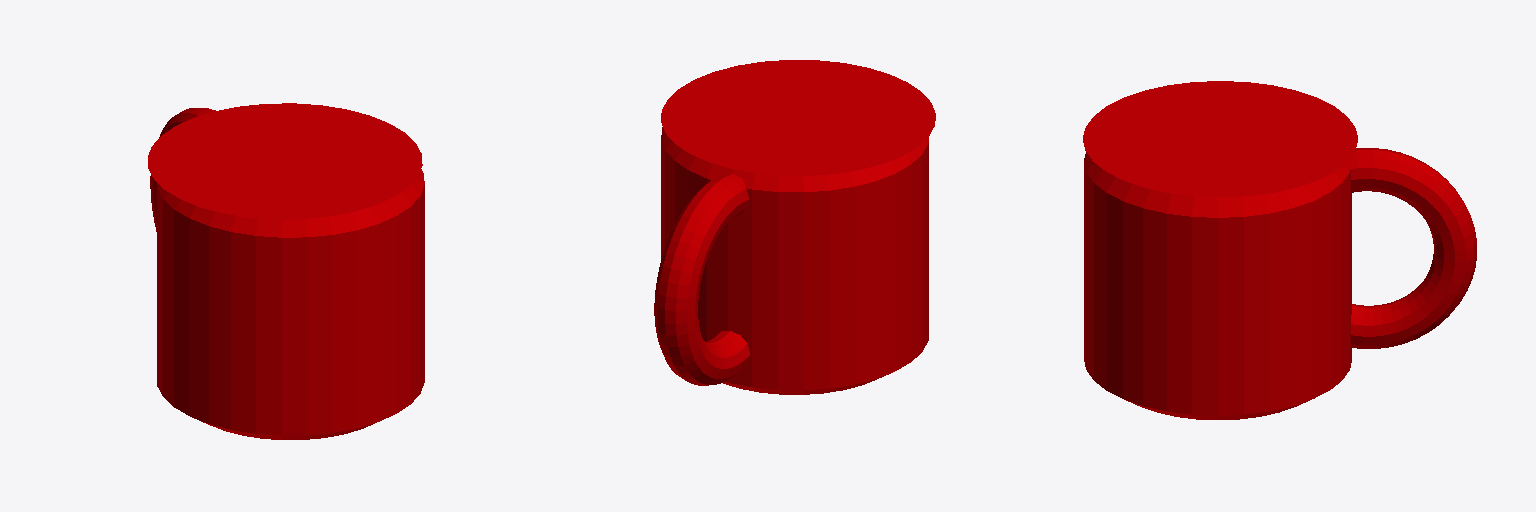
File: CreatedMug.obj
The picture shows the model from 3 angles: view 1: azimuth 30°, elevation 25°; view 2: azimuth 150°, elevation 25°; view 3: azimuth 270°, elevation 25°; orthographic projection.
Parts seen in each view (by area): view 1: Cylinder; view 2: Cylinder; view 3: Cylinder.
Part boxes in pixels (left/top/right/bottom): Cylinder: left=148, top=103, right=424, bottom=439; Cylinder: left=654, top=60, right=935, bottom=394; Cylinder: left=1083, top=81, right=1476, bottom=419.
Size of the model in its own units: 2.06 by 1.91 by 2.94.